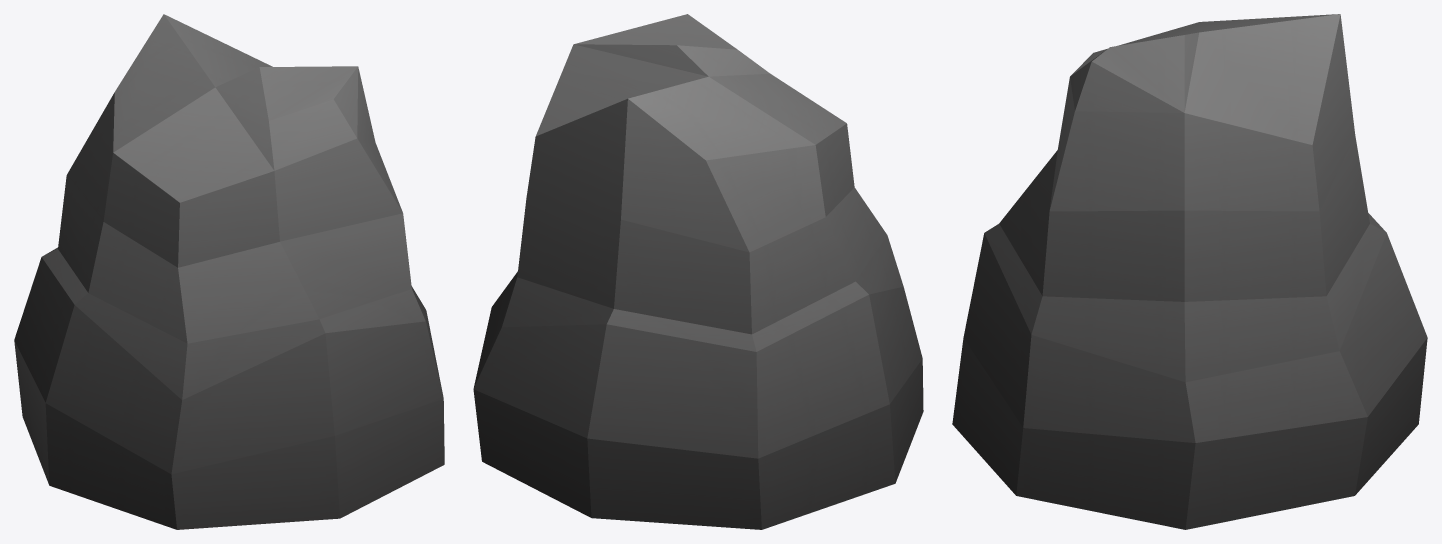
The model's file is Roca.fbx.
3 views of the same model, side by side, from view 1: azimuth 30°, elevation 25°; view 2: azimuth 150°, elevation 25°; view 3: azimuth 270°, elevation 25° (orthographic). The views are drawn at different scales.
Visible parts, largest first — view 1: Cube.006; view 2: Cube.006; view 3: Cube.006.
Boxes of the visible parts, box(x1,y1,x2,y2) form: Cube.006: box(14, 14, 444, 529); Cube.006: box(473, 14, 923, 529); Cube.006: box(952, 14, 1427, 529).
Size of the model in its own units: 174 by 163 by 171.
